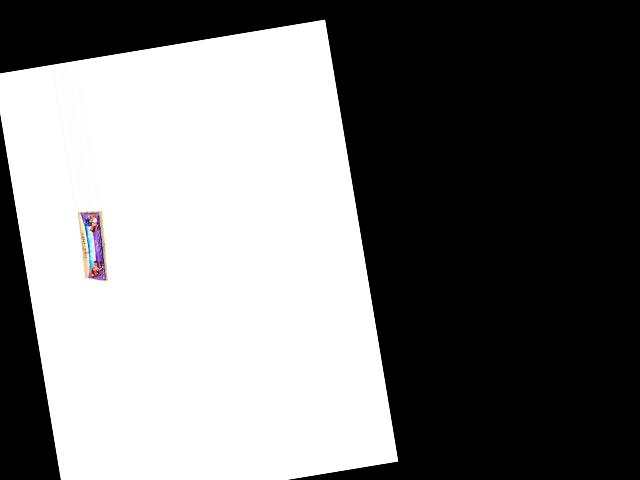chocolate: (77, 208, 114, 286)
